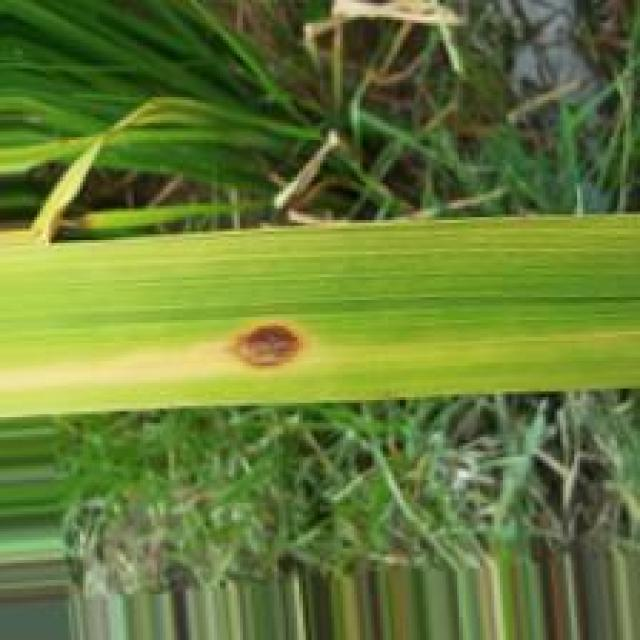Brown_Spot: (221, 321, 306, 370)
